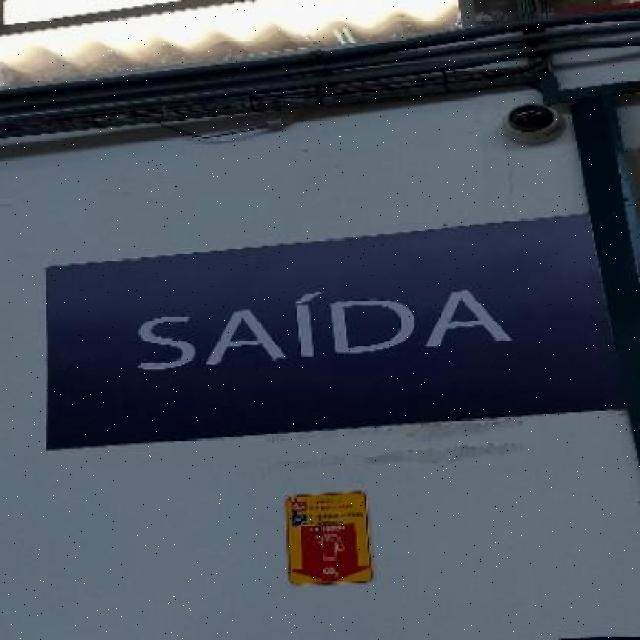emergency_exit: (43, 212, 629, 451), (285, 490, 373, 586)
